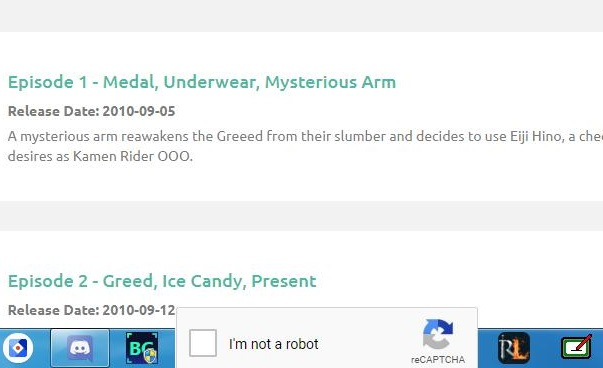captcha: (189, 329, 322, 357)
